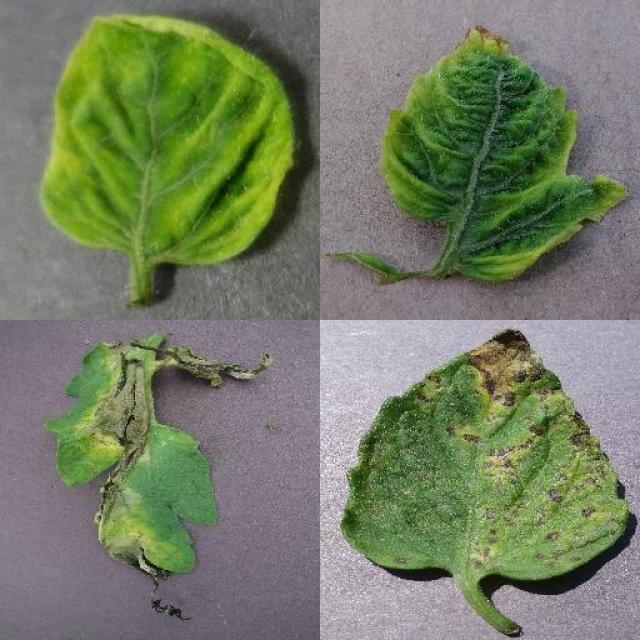Late Blight: (45, 330, 273, 622)
Septoria: (338, 324, 632, 578)
